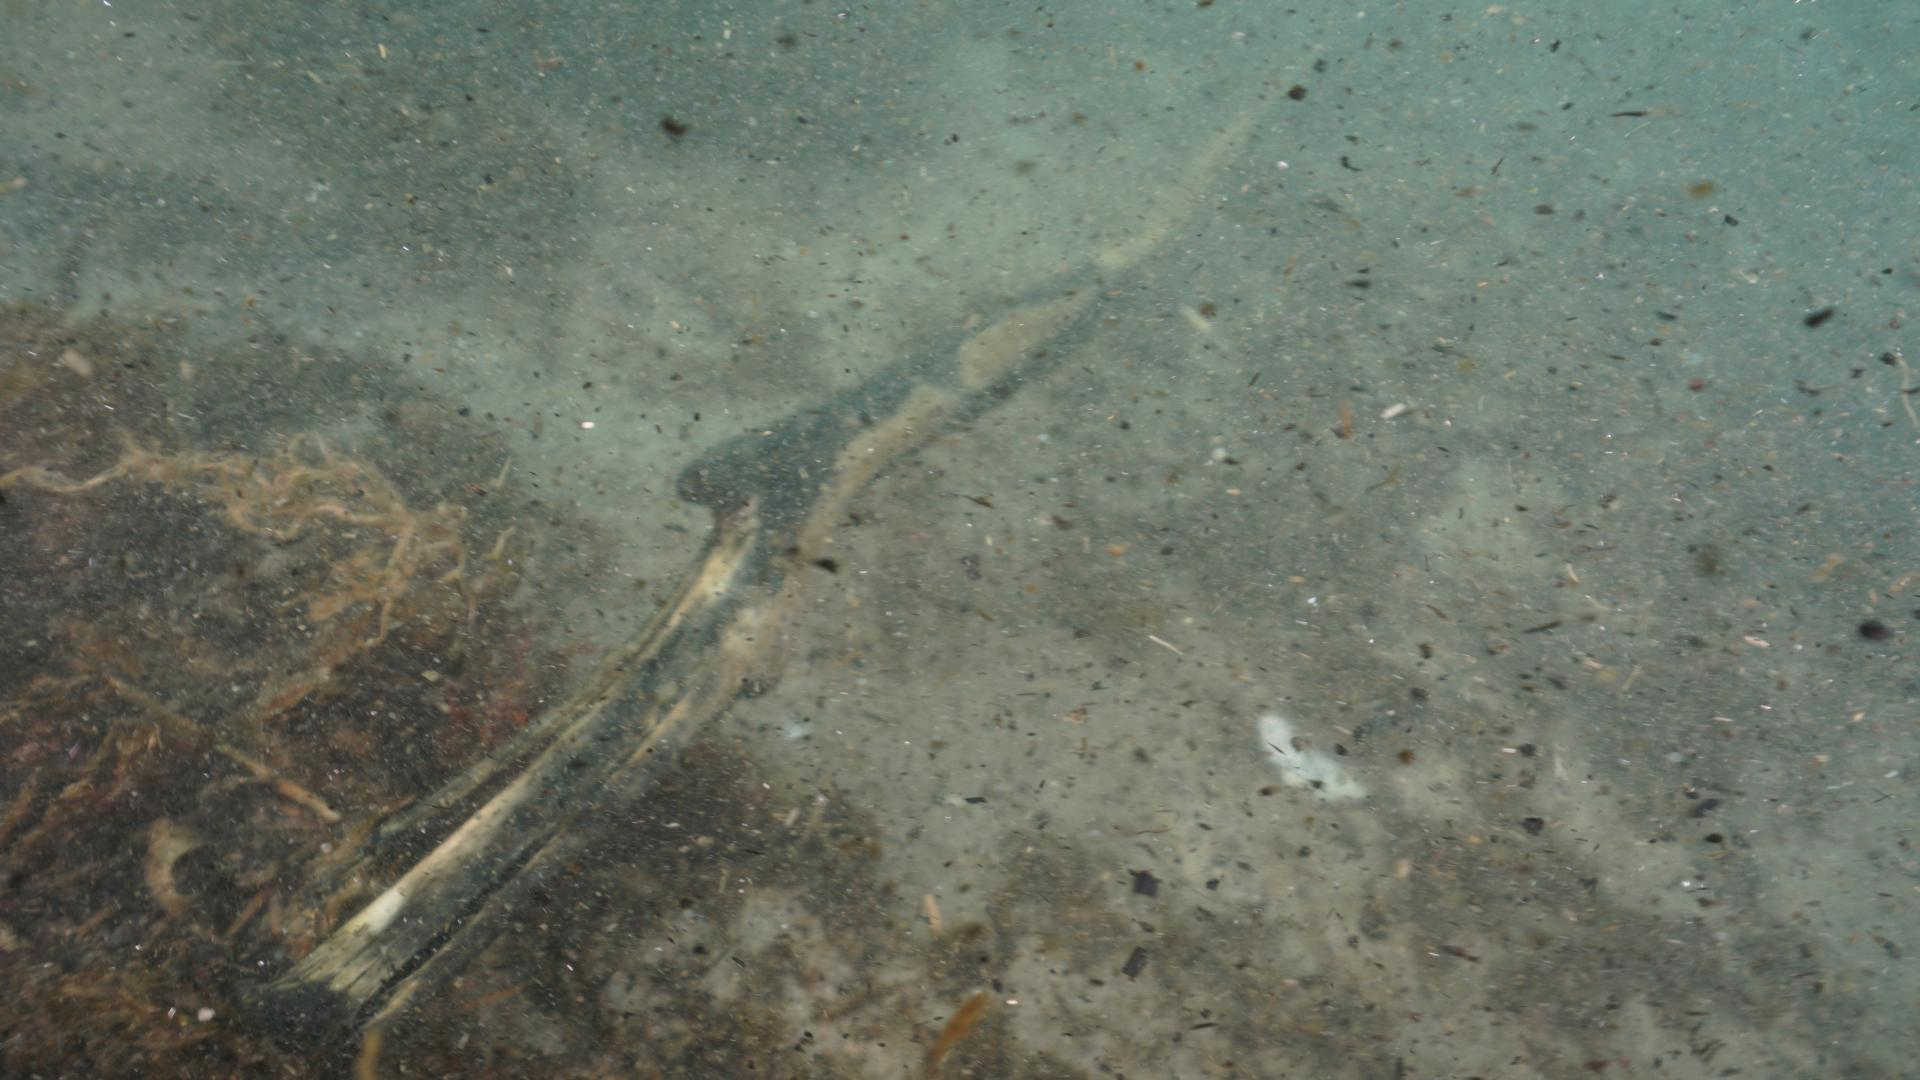wood: (255, 74, 1298, 1054)
